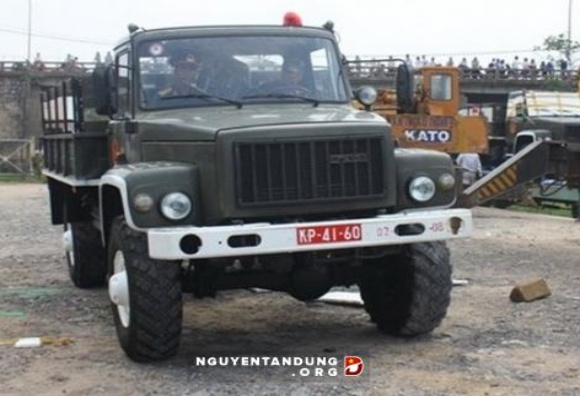plate: (295, 219, 360, 247)
